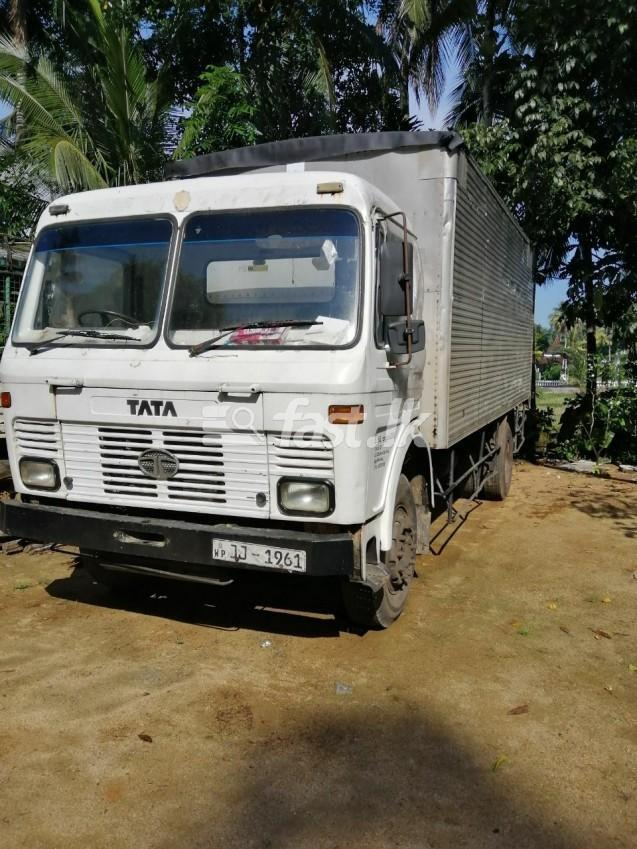truck: (1, 129, 534, 631)
